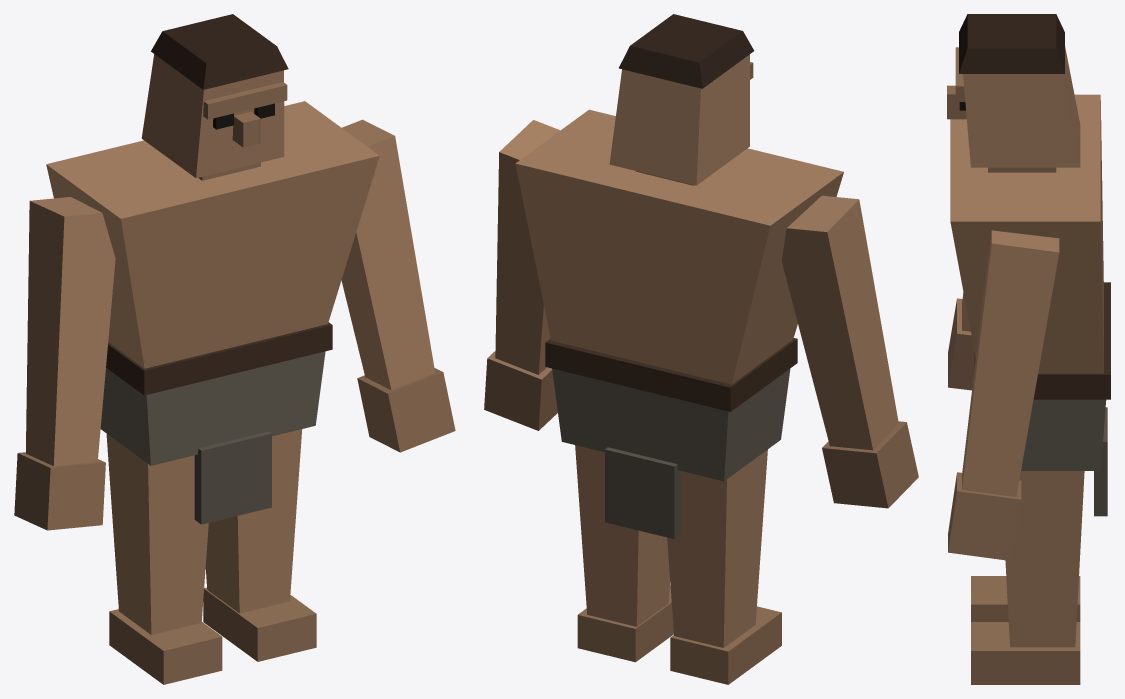
The model's file is human_base.glb.
3 views of the same model, side by side, from view 1: azimuth 30°, elevation 25°; view 2: azimuth 150°, elevation 25°; view 3: azimuth 270°, elevation 25° (orthographic). The views are drawn at different scales.
Visible parts, largest first — view 1: human_base; view 2: human_base; view 3: human_base.
Part boxes in pixels (x1,y1,x2,y2): human_base: (14, 14, 455, 684); human_base: (484, 14, 918, 684); human_base: (947, 14, 1110, 684).
Size of the model in its own units: 1.4 by 1.99 by 0.48.
